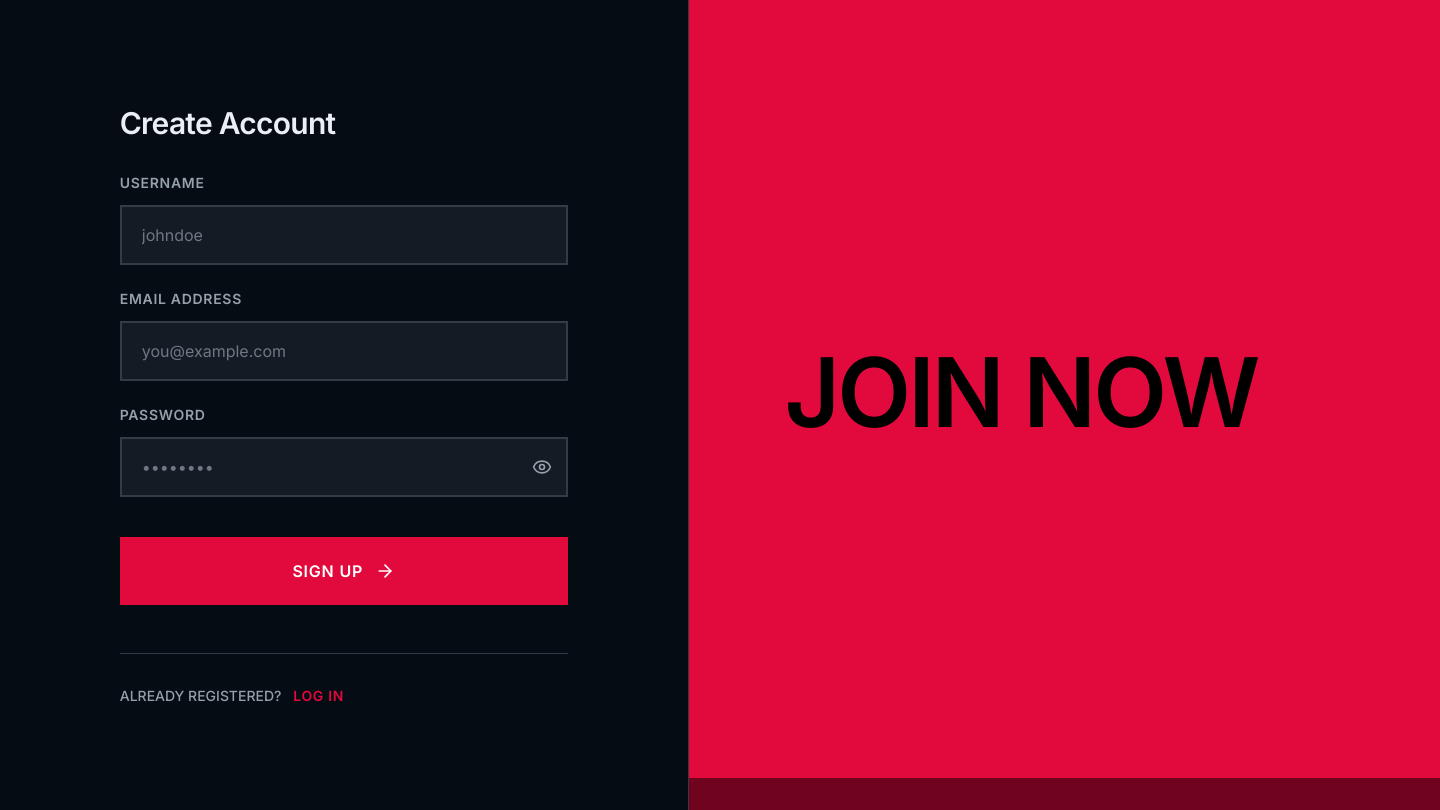
Test: Signup Component › displays error message when signup fails on the server
Type "existinguser" into the field labelled "Username" at (344, 234), box x1=120 y1=204 x2=568 y2=264
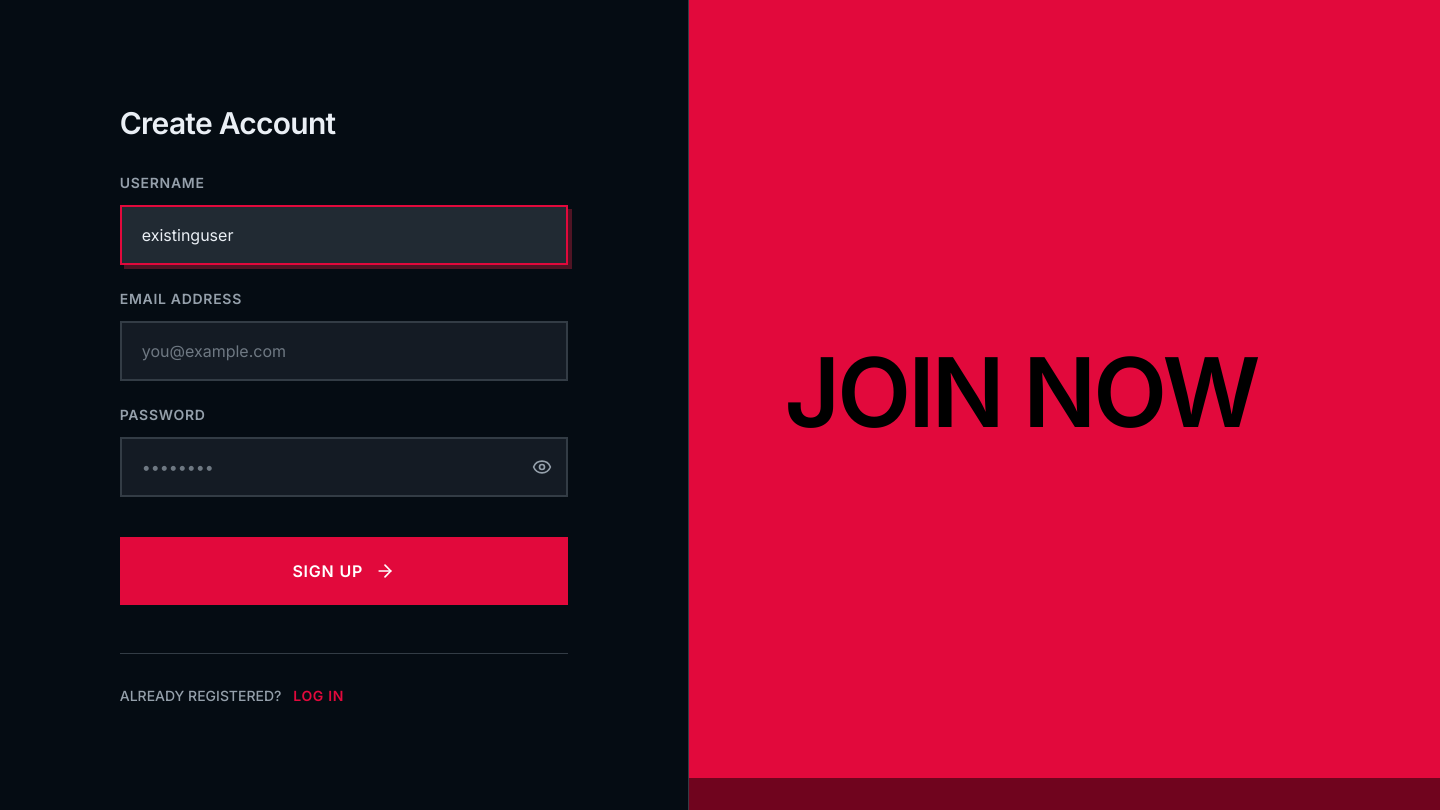
Type "existing@example.com" into the field labelled "Email Address" at (344, 350), box x1=120 y1=320 x2=568 y2=380
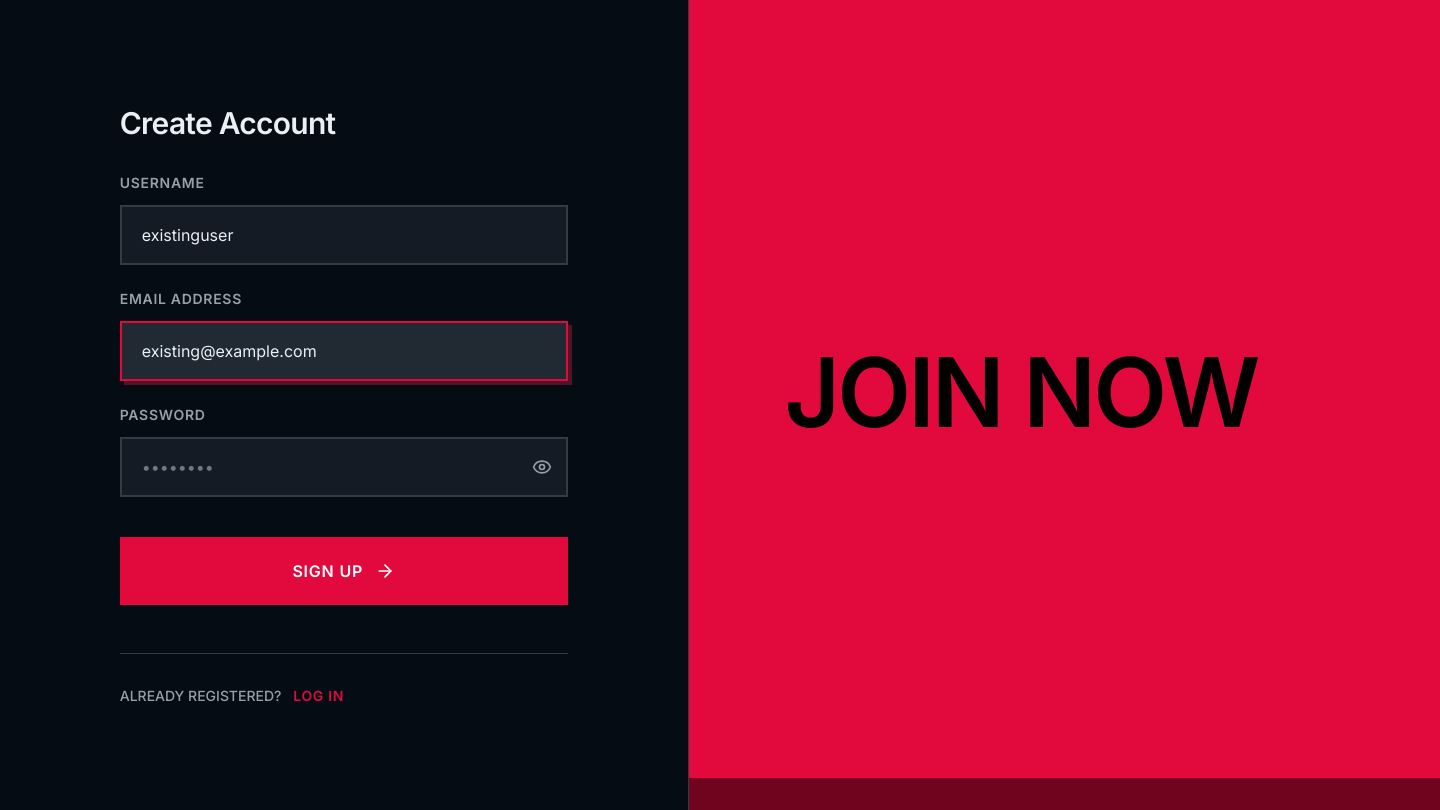
Type "password123" into the password field labelled "Password" at (344, 466), box x1=120 y1=436 x2=568 y2=496
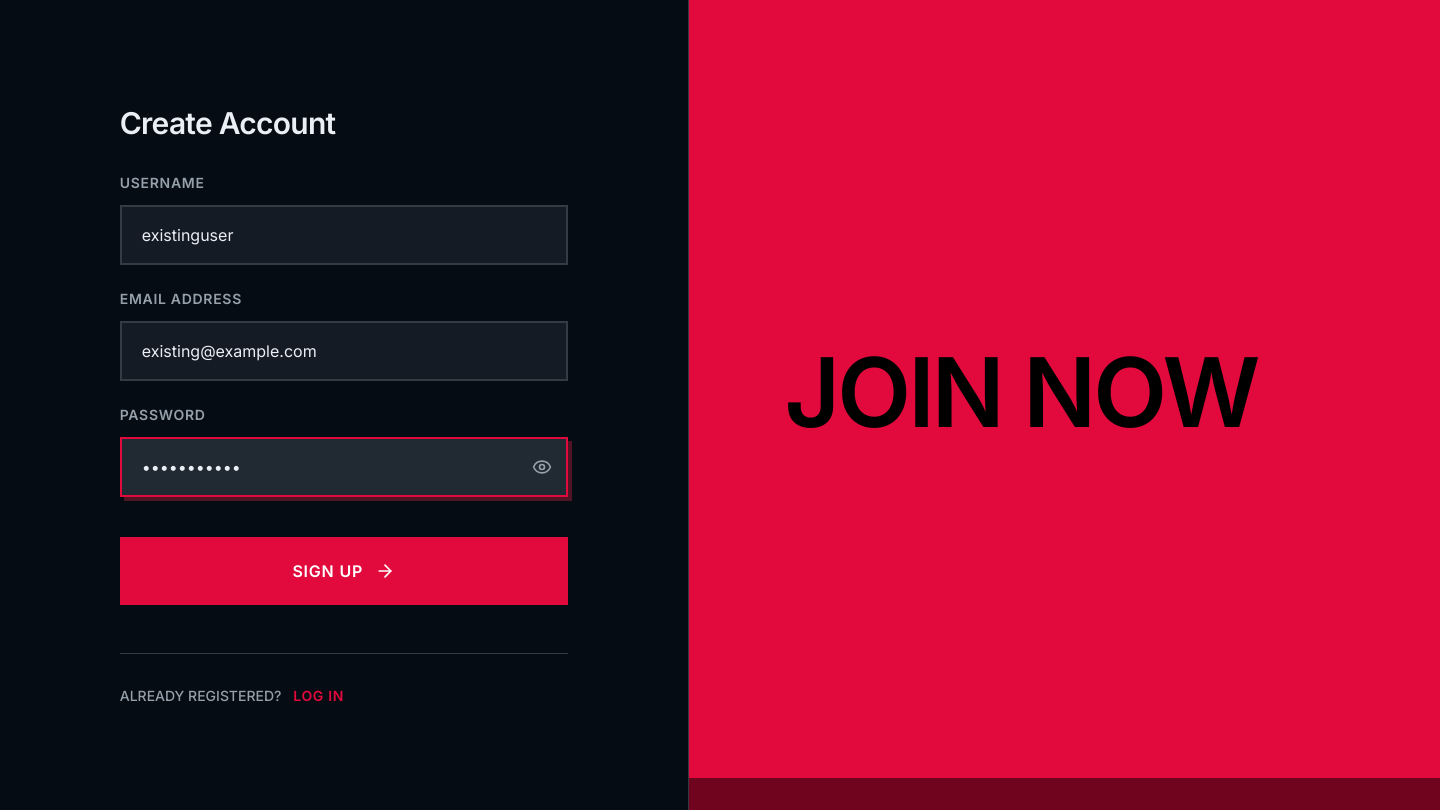
Click the button "Sign Up" at (344, 570), box x1=120 y1=536 x2=568 y2=604
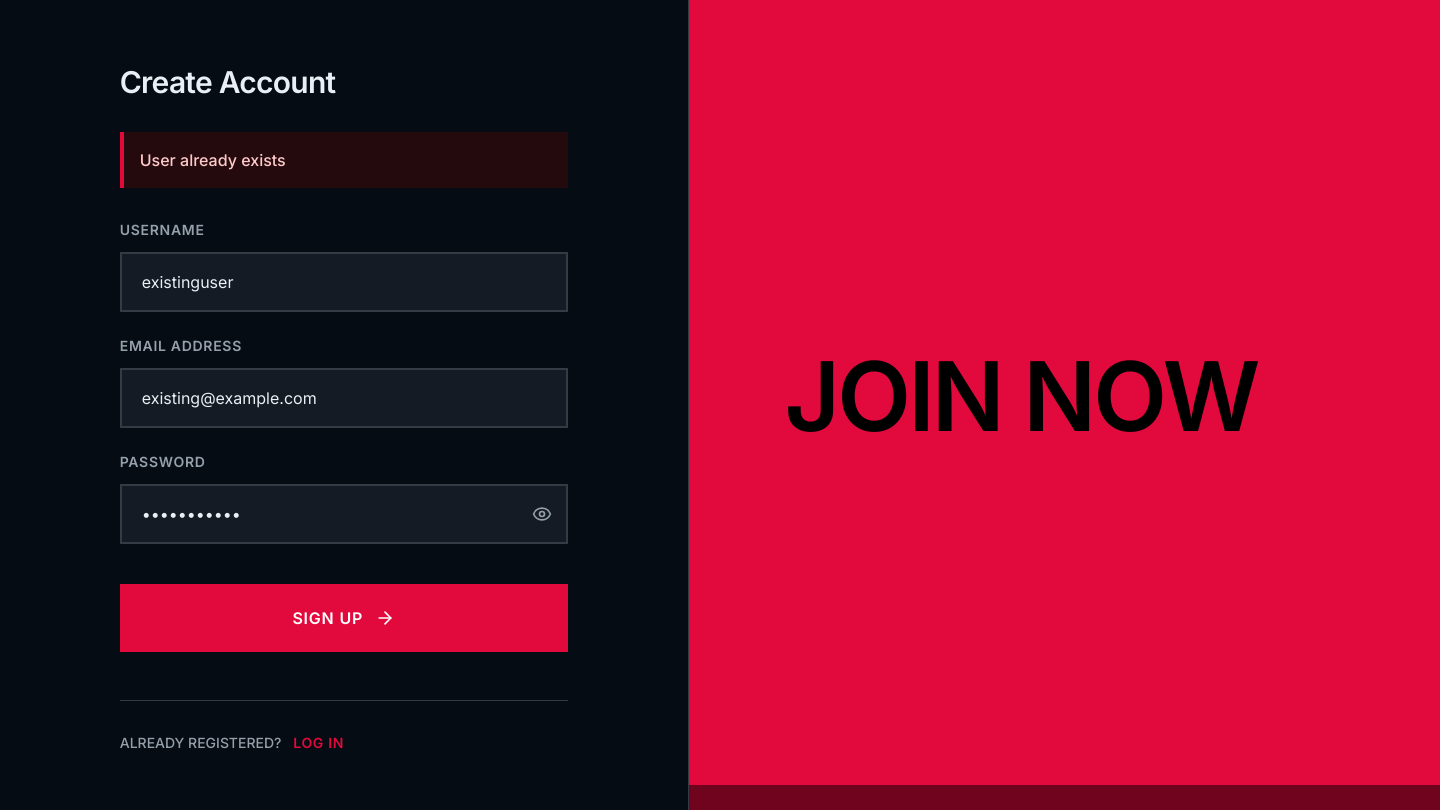
Check: the text "User already exists" is shown, box x1=120 y1=132 x2=568 y2=188
